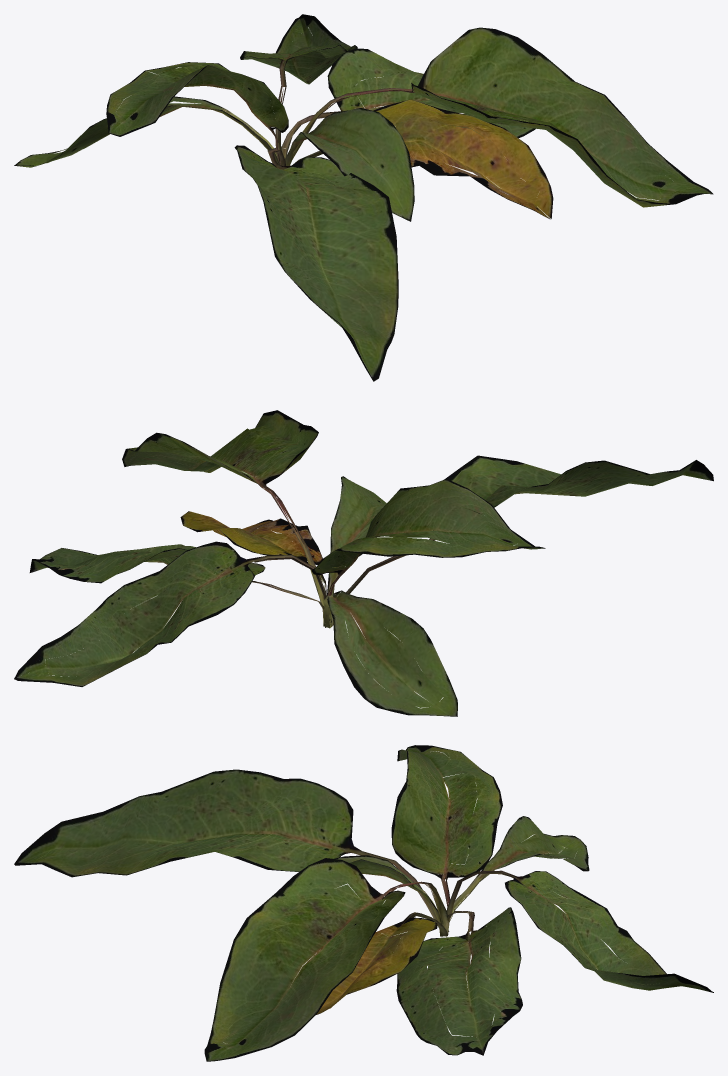
The model's file is weed_plant_02_a.gltf.lod.glb.
The picture shows the model from 3 angles, top to bottom: view 1: azimuth 30°, elevation 25°; view 2: azimuth 150°, elevation 25°; view 3: azimuth 270°, elevation 25°; orthographic projection. The views are drawn at different scales.
Parts seen in each view (by area): view 1: weed_plant_02_a_LOD0; view 2: weed_plant_02_a_LOD0; view 3: weed_plant_02_a_LOD0.
Boxes of the visible parts, x1,y1,x2,y2 form: weed_plant_02_a_LOD0: (14,14,713,381); weed_plant_02_a_LOD0: (14,410,713,716); weed_plant_02_a_LOD0: (14,745,713,1061).
Bounding box in the file's own units: 0.2194 × 0.0725 × 0.291.
Materials: 1 (1 with a texture image).
